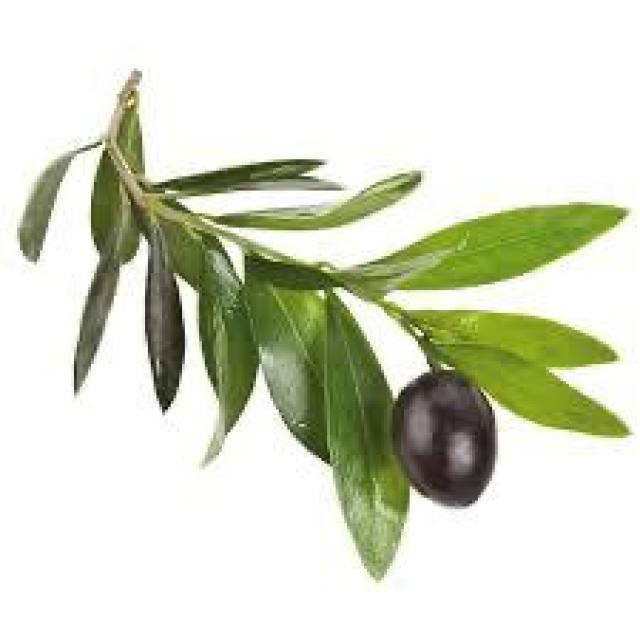Healthy: (338, 202, 626, 290), (324, 290, 407, 577), (422, 333, 629, 437), (393, 367, 499, 503)
